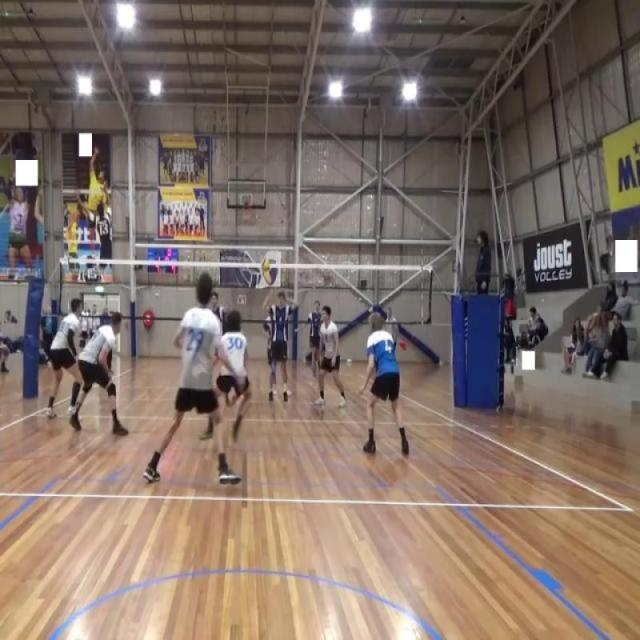volleyball: (260, 256, 272, 273)
